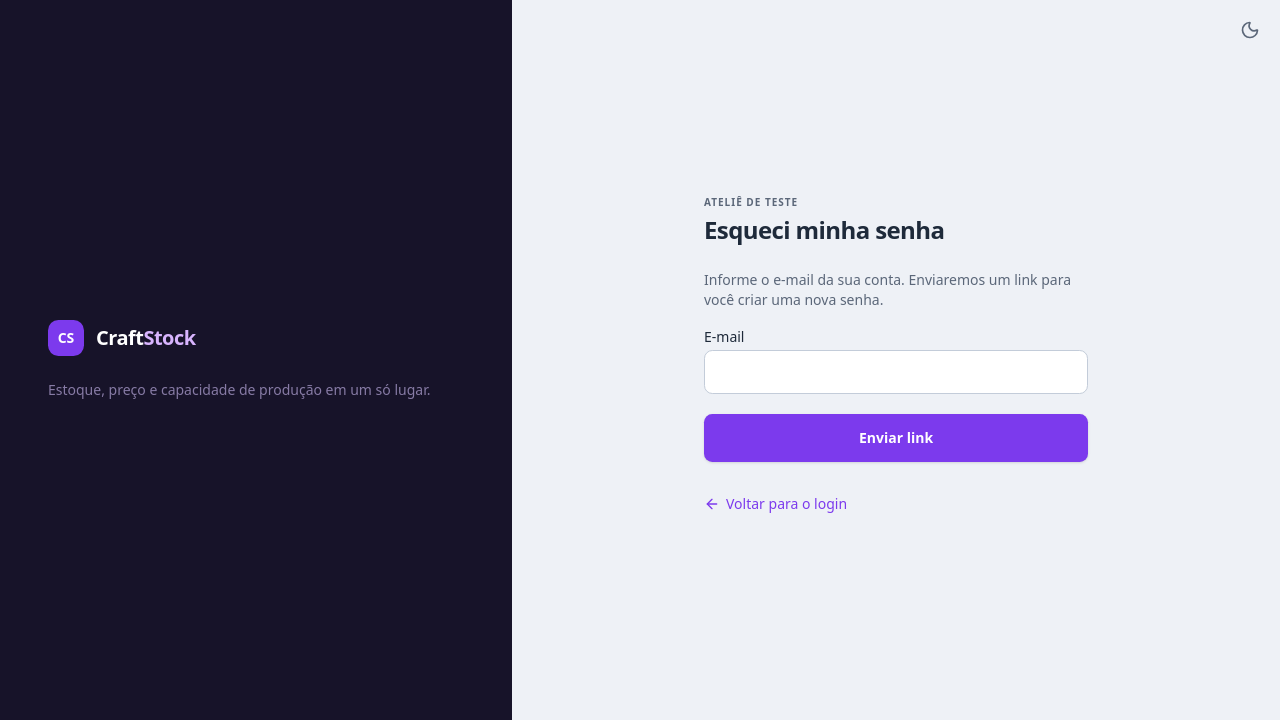
asking for the link › shows the support code, and keeps the form, when the API fails on its side
Type "ana@exemplo.com.br" into the field labelled "E-mail". click: (896, 372)
box: [704,350,1088,394]
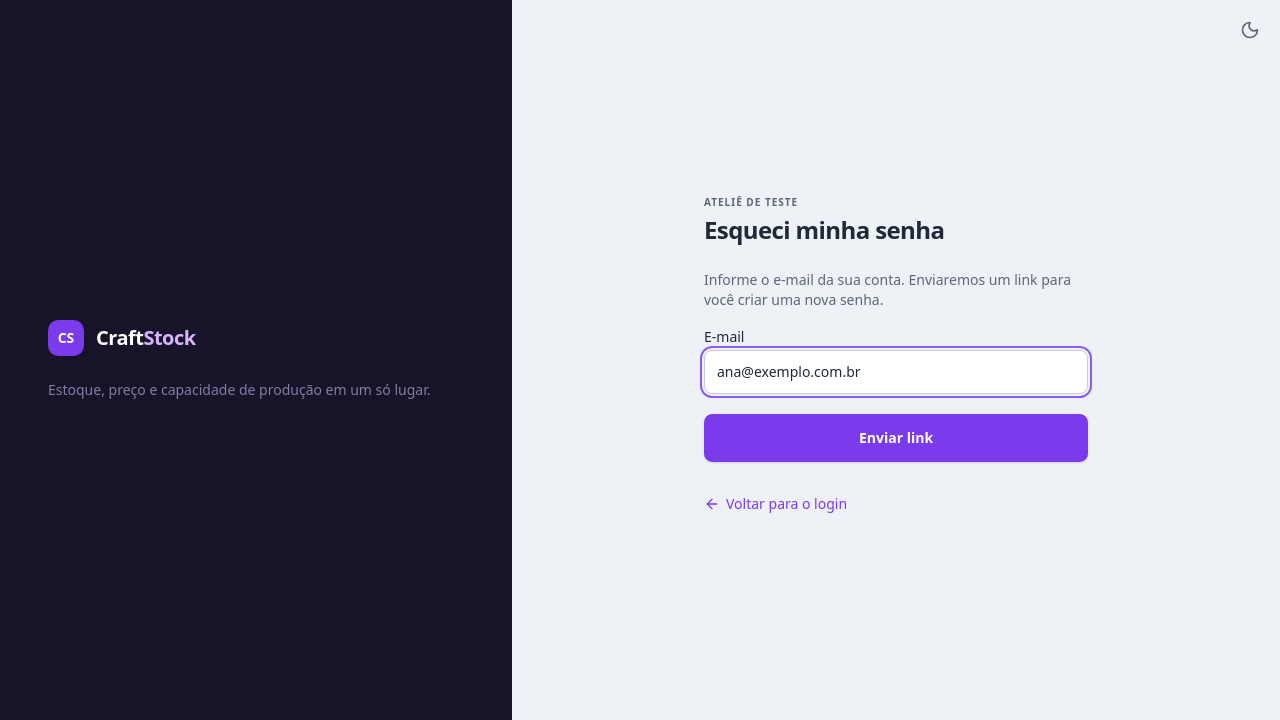
Click the button "Enviar link". click: (896, 438)
box: [704,414,1088,462]
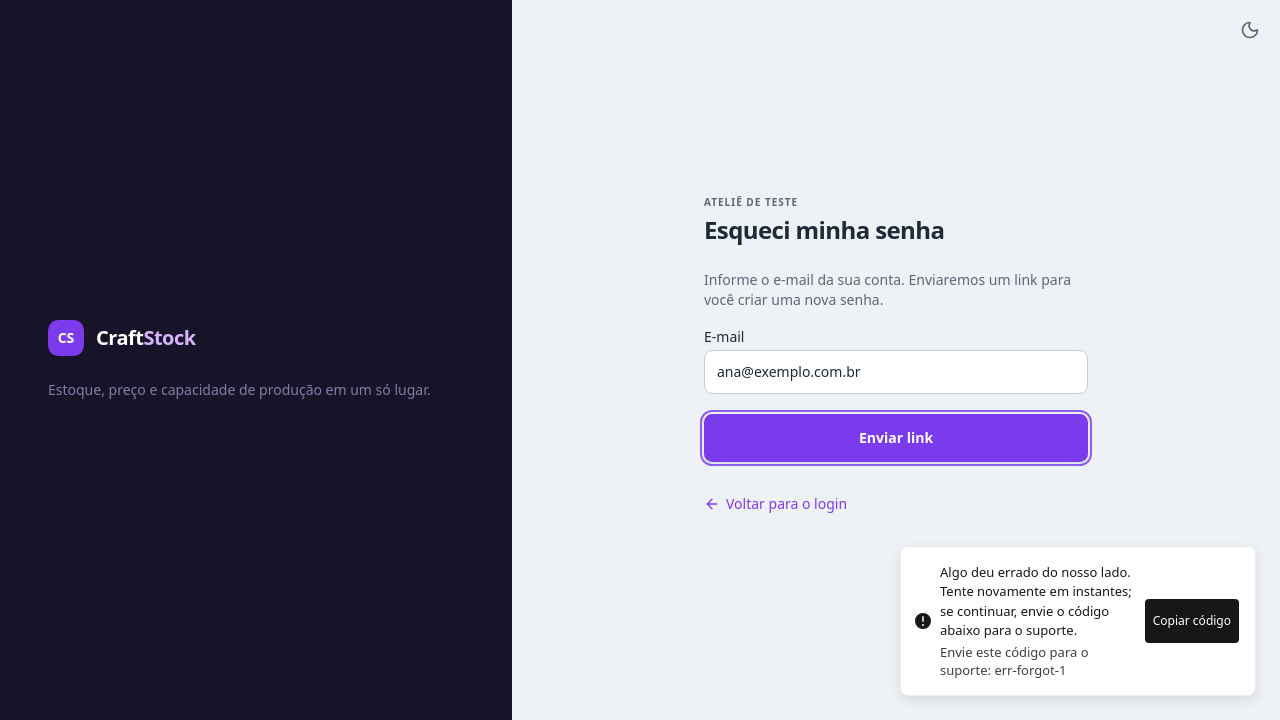
Check: the text "Envie este código para o suporte: err-forgot-1" is shown, box [940,643,1088,679]
